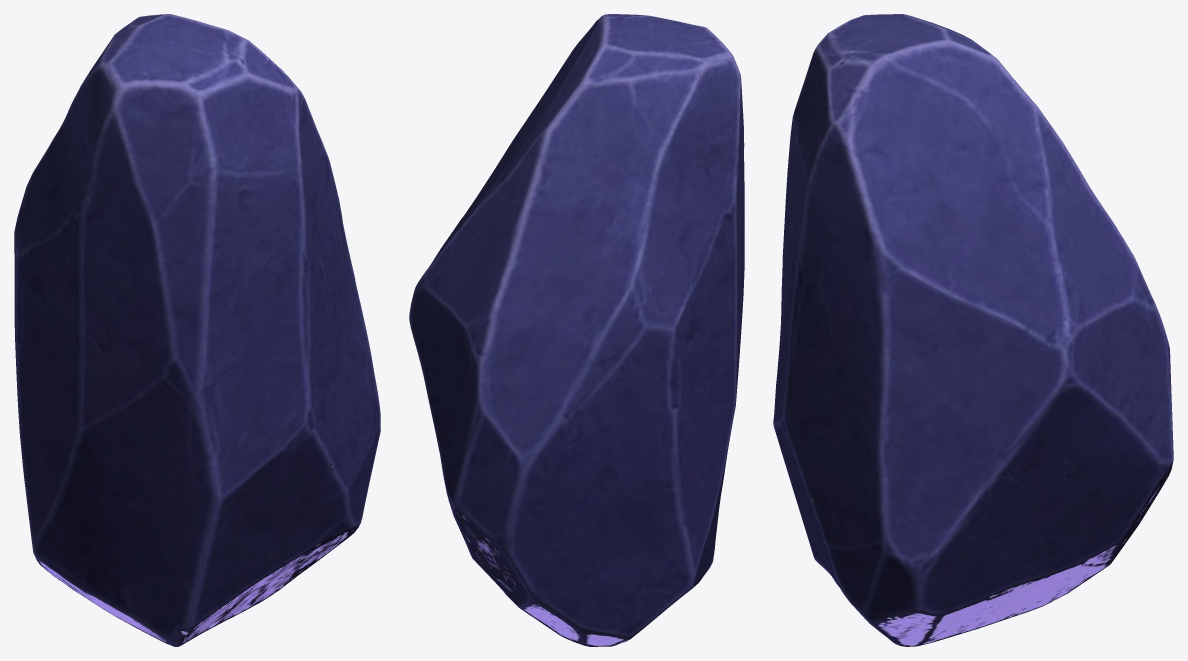
File: sky_boulder_e_nexus.glb
The picture shows the model from 3 angles, left to right: view 1: azimuth 30°, elevation 25°; view 2: azimuth 150°, elevation 25°; view 3: azimuth 270°, elevation 25°; orthographic projection. The views are drawn at different scales.
Visible parts, largest first — view 1: boulder_e; view 2: boulder_e; view 3: boulder_e.
Boxes of the visible parts, <box> form: boulder_e: <box>14,14,380,646</box>; boulder_e: <box>409,14,744,646</box>; boulder_e: <box>773,14,1173,646</box>.
Size of the model in its own units: 7.62 by 14.32 by 9.02.
1 material, 1 textured.
